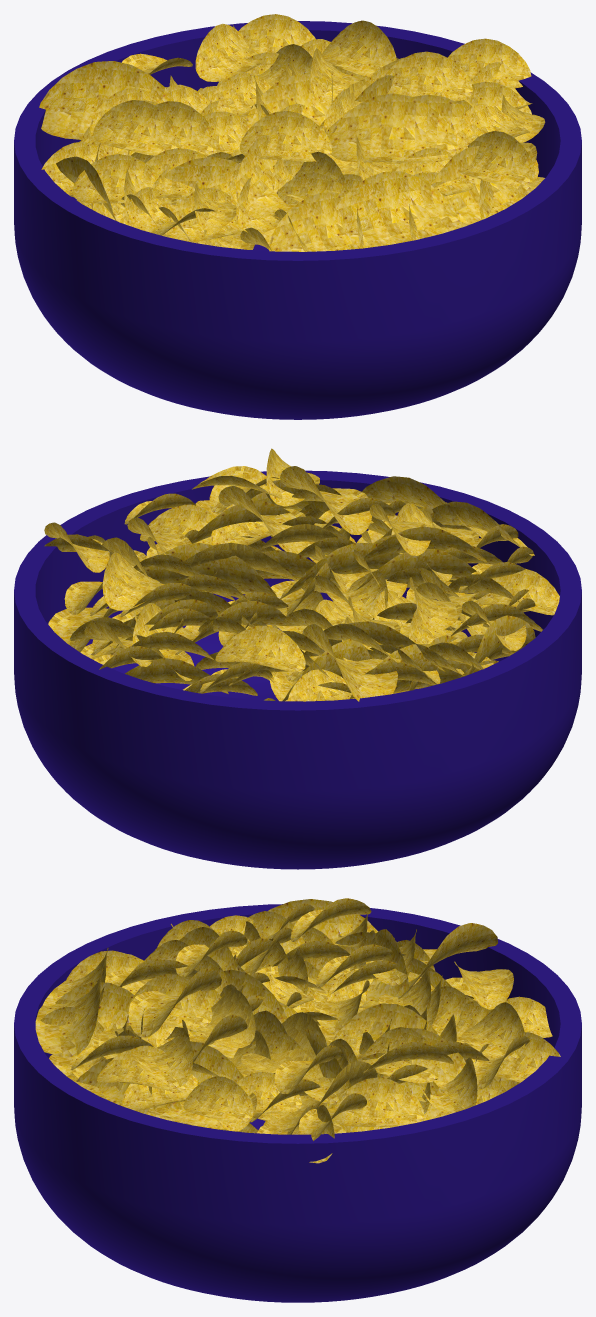
File: Kripik singkong.fbx
The picture shows the model from 3 angles, top to bottom: view 1: azimuth 30°, elevation 25°; view 2: azimuth 150°, elevation 25°; view 3: azimuth 270°, elevation 25°; orthographic projection.
Visible parts, largest first — view 1: CUBA+BOWL+40, Pringles+Chip (1).084, Pringles+Chip (1).091, Pringles+Chip (1).143, Pringles+Chip (1).260, Pringles+Chip (1).094, Pringles+Chip (1).090, Pringles+Chip (1).232, Pringles+Chip (1).234, Pringles+Chip (1).181, Pringles+Chip (1).280, Pringles+Chip (1).167 (+34 smaller); view 2: CUBA+BOWL+40, Pringles+Chip (1).129, Pringles+Chip (1).143, Pringles+Chip (1).208, Pringles+Chip (1).181, Pringles+Chip (1).084, Pringles+Chip (1).273, Pringles+Chip (1).091, Pringles+Chip (1).031, Pringles+Chip (1).079, Pringles+Chip (1).244, Pringles+Chip (1).225 (+58 smaller); view 3: CUBA+BOWL+40, Pringles+Chip (1).150, Pringles+Chip (1).091, Pringles+Chip (1).217, Pringles+Chip (1).084, Pringles+Chip (1).167, Pringles+Chip (1).068, Pringles+Chip (1).200, Pringles+Chip (1).075, Pringles+Chip (1).226, Pringles+Chip (1).166, Pringles+Chip (1).143 (+53 smaller).
Part boxes in pixels (x1=…): CUBA+BOWL+40: x1=14, y1=21, x2=581, y2=419; Pringles+Chip (1).084: x1=329, y1=93, x2=457, y2=162; Pringles+Chip (1).091: x1=335, y1=171, x2=461, y2=248; Pringles+Chip (1).143: x1=39, y1=61, x2=175, y2=139; Pringles+Chip (1).260: x1=268, y1=192, x2=359, y2=251; Pringles+Chip (1).094: x1=93, y1=100, x2=180, y2=155; Pringles+Chip (1).090: x1=239, y1=111, x2=332, y2=161; Pringles+Chip (1).232: x1=384, y1=51, x2=472, y2=101; Pringles+Chip (1).234: x1=458, y1=131, x2=534, y2=186; Pringles+Chip (1).181: x1=322, y1=20, x2=396, y2=77; Pringles+Chip (1).280: x1=72, y1=154, x2=164, y2=203; Pringles+Chip (1).167: x1=195, y1=23, x2=264, y2=81; CUBA+BOWL+40: x1=14, y1=470, x2=581, y2=869; Pringles+Chip (1).129: x1=215, y1=625, x2=305, y2=672; Pringles+Chip (1).143: x1=302, y1=624, x2=397, y2=701; Pringles+Chip (1).208: x1=139, y1=543, x2=276, y2=596; Pringles+Chip (1).181: x1=102, y1=552, x2=161, y2=610; Pringles+Chip (1).084: x1=280, y1=466, x2=371, y2=534; Pringles+Chip (1).273: x1=477, y1=568, x2=559, y2=615; Pringles+Chip (1).091: x1=361, y1=476, x2=487, y2=538; Pringles+Chip (1).031: x1=280, y1=543, x2=399, y2=598; Pringles+Chip (1).079: x1=356, y1=549, x2=476, y2=589; Pringles+Chip (1).244: x1=364, y1=526, x2=486, y2=562; Pringles+Chip (1).225: x1=140, y1=504, x2=215, y2=544; CUBA+BOWL+40: x1=14, y1=904, x2=581, y2=1302; Pringles+Chip (1).150: x1=332, y1=1077, x2=424, y2=1127; Pringles+Chip (1).091: x1=35, y1=968, x2=103, y2=1057; Pringles+Chip (1).217: x1=183, y1=1076, x2=253, y2=1122; Pringles+Chip (1).084: x1=128, y1=968, x2=221, y2=1037; Pringles+Chip (1).167: x1=461, y1=1002, x2=525, y2=1060; Pringles+Chip (1).068: x1=241, y1=1012, x2=327, y2=1078; Pringles+Chip (1).200: x1=127, y1=974, x2=212, y2=1028; Pringles+Chip (1).075: x1=142, y1=1041, x2=243, y2=1129; Pringles+Chip (1).226: x1=131, y1=1035, x2=193, y2=1087; Pringles+Chip (1).166: x1=361, y1=1027, x2=440, y2=1083; Pringles+Chip (1).143: x1=397, y1=923, x2=497, y2=999.
Bounding box in the file's own units: 7779 × 4202 × 7744.
